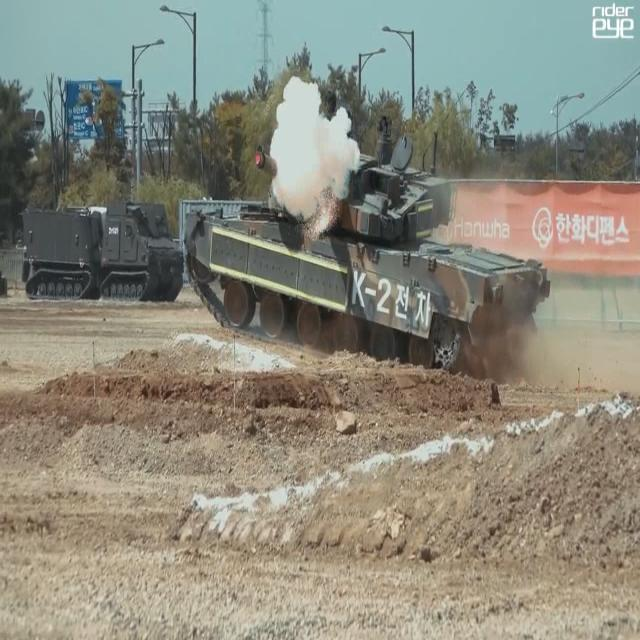korea tank: (182, 87, 552, 383)
